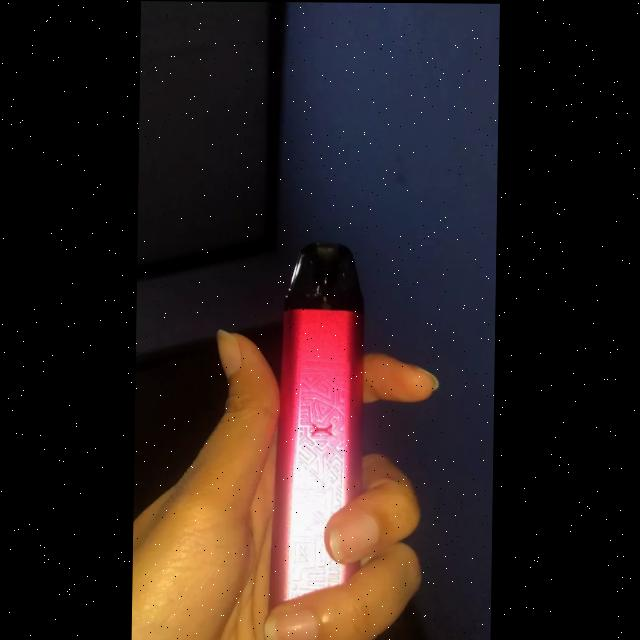vape: (268, 236, 368, 610)
